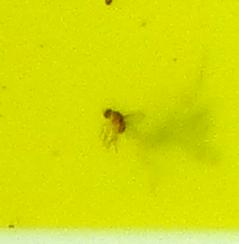Brachycera: (100, 100, 139, 144)
